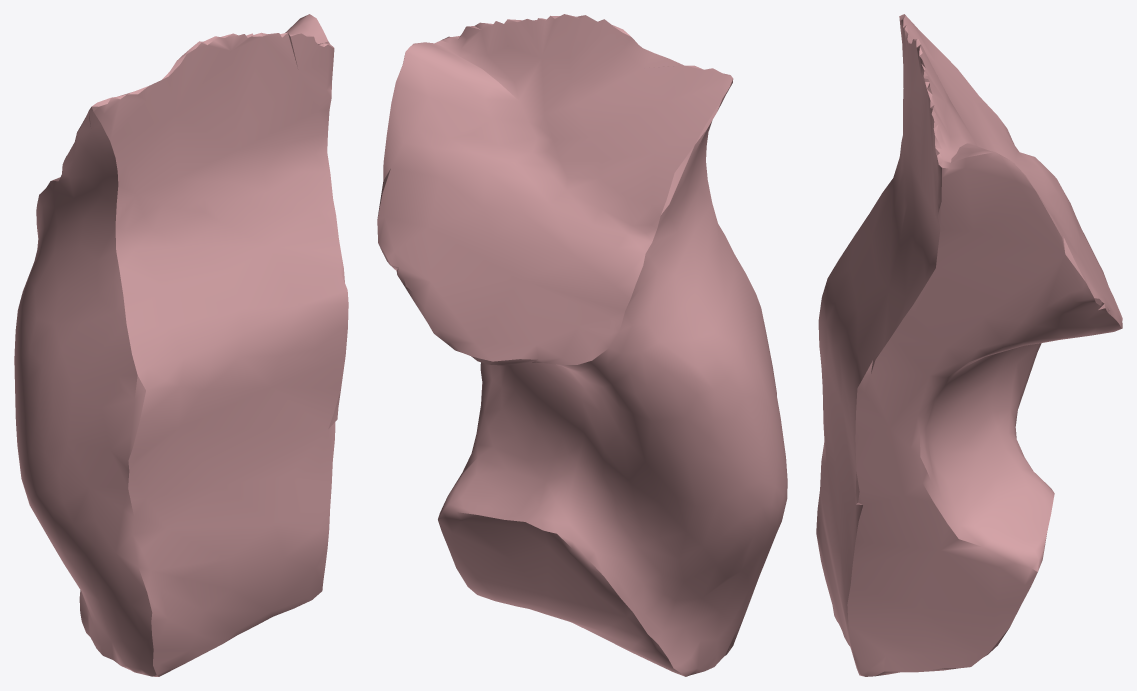
The model's file is fma60999_mm1274m.glb.
The picture shows the model from 3 angles, left to right: view 1: azimuth 30°, elevation 25°; view 2: azimuth 150°, elevation 25°; view 3: azimuth 270°, elevation 25°; orthographic projection. The views are drawn at different scales.
Visible parts, largest first — view 1: FMA60999_MM1274M; view 2: FMA60999_MM1274M; view 3: FMA60999_MM1274M.
Part boxes in pixels (x1=…): FMA60999_MM1274M: x1=14, y1=14, x2=348, y2=676; FMA60999_MM1274M: x1=377, y1=14, x2=787, y2=676; FMA60999_MM1274M: x1=816, y1=14, x2=1122, y2=676.
Bounding box in the file's own units: 0.0132 × 0.0235 × 0.0104.
